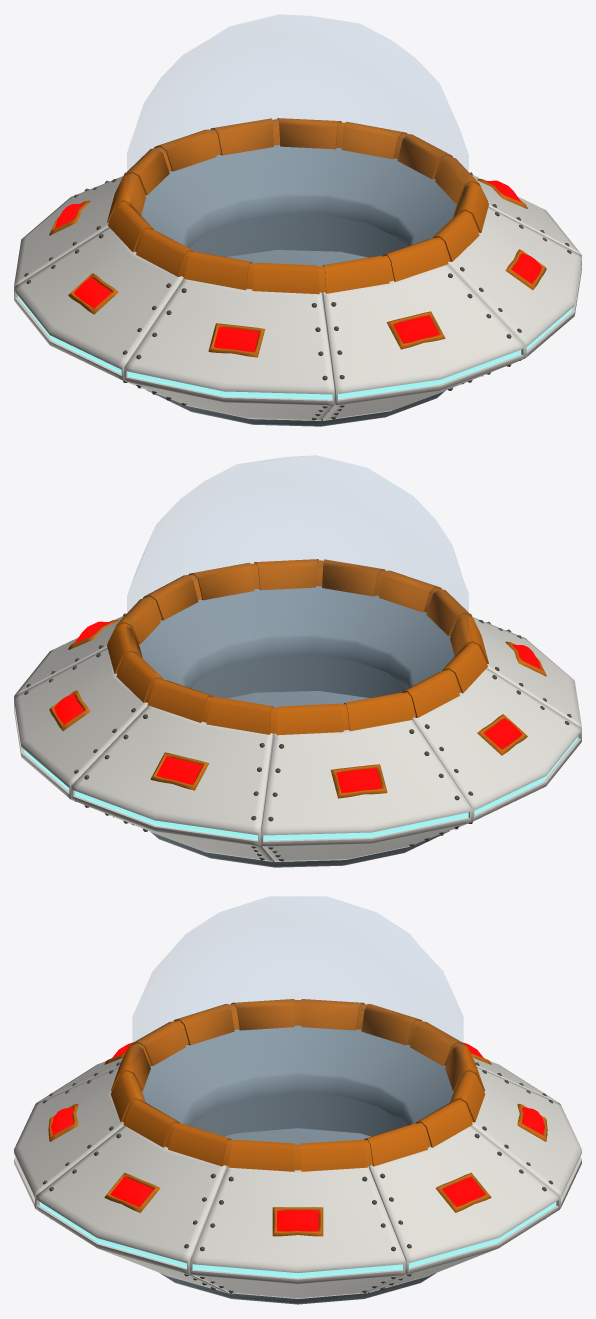
The model's file is UFO.fbx.
3 views of the same model, one above another, from view 1: azimuth 30°, elevation 25°; view 2: azimuth 150°, elevation 25°; view 3: azimuth 270°, elevation 25° (orthographic).
Parts seen in each view (by area): view 1: ext_body, glass_door, int_body, red_light_, bolt; view 2: ext_body, glass_door, int_body, red_light_, bolt; view 3: ext_body, glass_door, int_body, red_light_, bolt.
Boxes of the visible parts, x1,y1,x2,y2 form: ext_body: [14, 175, 581, 420]; glass_door: [107, 15, 488, 294]; int_body: [141, 145, 456, 426]; red_light_: [49, 179, 546, 357]; bolt: [24, 172, 571, 420]; ext_body: [14, 616, 581, 861]; glass_door: [107, 456, 488, 735]; int_body: [139, 586, 454, 867]; red_light_: [49, 620, 546, 798]; bolt: [24, 613, 571, 861]; ext_body: [14, 1058, 581, 1298]; glass_door: [110, 897, 485, 1171]; int_body: [142, 1025, 453, 1304]; red_light_: [48, 1042, 547, 1236]; bolt: [43, 1062, 552, 1293].
Size of the model in its own units: 194 by 126 by 194.
